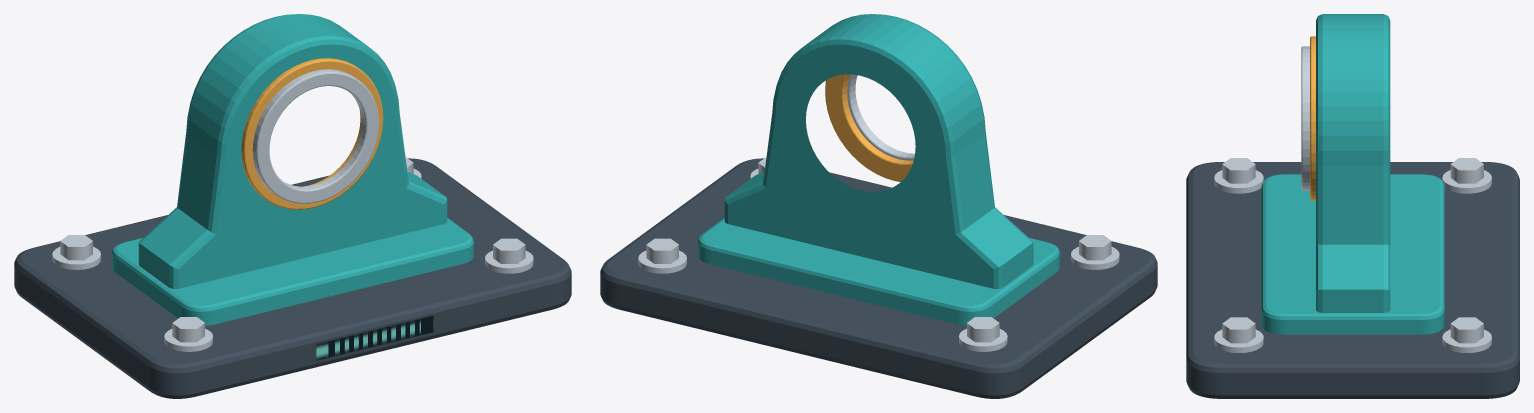
Rendered from mounting-bracket.glb.
The picture shows the model from 3 angles, left to right: view 1: azimuth 30°, elevation 25°; view 2: azimuth 150°, elevation 25°; view 3: azimuth 270°, elevation 25°; orthographic projection.
Visible parts, largest first — view 1: Mounting base, Bearing bracket, Bracket foot, Bearing race, Outer gasket, Identification markings, Front left fastener, Front right fastener, Rear left fastener, Front left fastener washer, Front right fastener washer, Rear left fastener washer; view 2: Bearing bracket, Mounting base, Bracket foot, Outer gasket, Bearing race, Rear left fastener, Rear right fastener, Front left fastener, Front left fastener washer, Rear left fastener washer, Rear right fastener washer; view 3: Mounting base, Bearing bracket, Bracket foot, Bearing race, Outer gasket, Front right fastener, Rear right fastener, Rear left fastener, Front left fastener, Front left fastener washer, Rear left fastener washer, Front right fastener washer (+1 smaller).
Boxes of the visible parts, x1=… form: Mounting base: x1=14, y1=158, x2=571, y2=398; Bearing bracket: x1=138, y1=14, x2=447, y2=288; Bracket foot: x1=112, y1=218, x2=473, y2=325; Bearing race: x1=252, y1=69, x2=378, y2=203; Outer gasket: x1=241, y1=58, x2=383, y2=209; Identification markings: x1=316, y1=315, x2=433, y2=360; Front left fastener: x1=172, y1=317, x2=204, y2=342; Front right fastener: x1=493, y1=238, x2=525, y2=263; Rear left fastener: x1=60, y1=235, x2=92, y2=260; Front left fastener washer: x1=164, y1=328, x2=212, y2=351; Front right fastener washer: x1=485, y1=250, x2=533, y2=273; Rear left fastener washer: x1=52, y1=246, x2=100, y2=269; Bearing bracket: x1=724, y1=14, x2=1033, y2=288; Mounting base: x1=600, y1=158, x2=1157, y2=398; Bracket foot: x1=698, y1=218, x2=1059, y2=325; Outer gasket: x1=825, y1=74, x2=913, y2=181; Bearing race: x1=847, y1=74, x2=914, y2=160; Rear left fastener: x1=967, y1=317, x2=999, y2=342; Rear right fastener: x1=646, y1=238, x2=678, y2=263; Front left fastener: x1=1079, y1=235, x2=1111, y2=260; Front left fastener washer: x1=1071, y1=246, x2=1119, y2=269; Rear left fastener washer: x1=959, y1=328, x2=1007, y2=351; Rear right fastener washer: x1=638, y1=250, x2=686, y2=273; Mounting base: x1=1186, y1=162, x2=1519, y2=398; Bearing bracket: x1=1316, y1=14, x2=1390, y2=312; Bracket foot: x1=1261, y1=174, x2=1444, y2=334; Bearing race: x1=1301, y1=46, x2=1309, y2=190; Outer gasket: x1=1310, y1=36, x2=1315, y2=200; Front right fastener: x1=1222, y1=317, x2=1255, y2=343; Rear right fastener: x1=1450, y1=317, x2=1483, y2=343; Rear left fastener: x1=1450, y1=158, x2=1483, y2=183; Front left fastener: x1=1222, y1=158, x2=1255, y2=183; Front left fastener washer: x1=1214, y1=170, x2=1263, y2=193; Rear left fastener washer: x1=1442, y1=170, x2=1491, y2=193; Front right fastener washer: x1=1214, y1=329, x2=1263, y2=352.
Bounding box in the file's own units: 3.96 × 2.43 × 2.69.
Materials: 5 (1 with a texture image).
